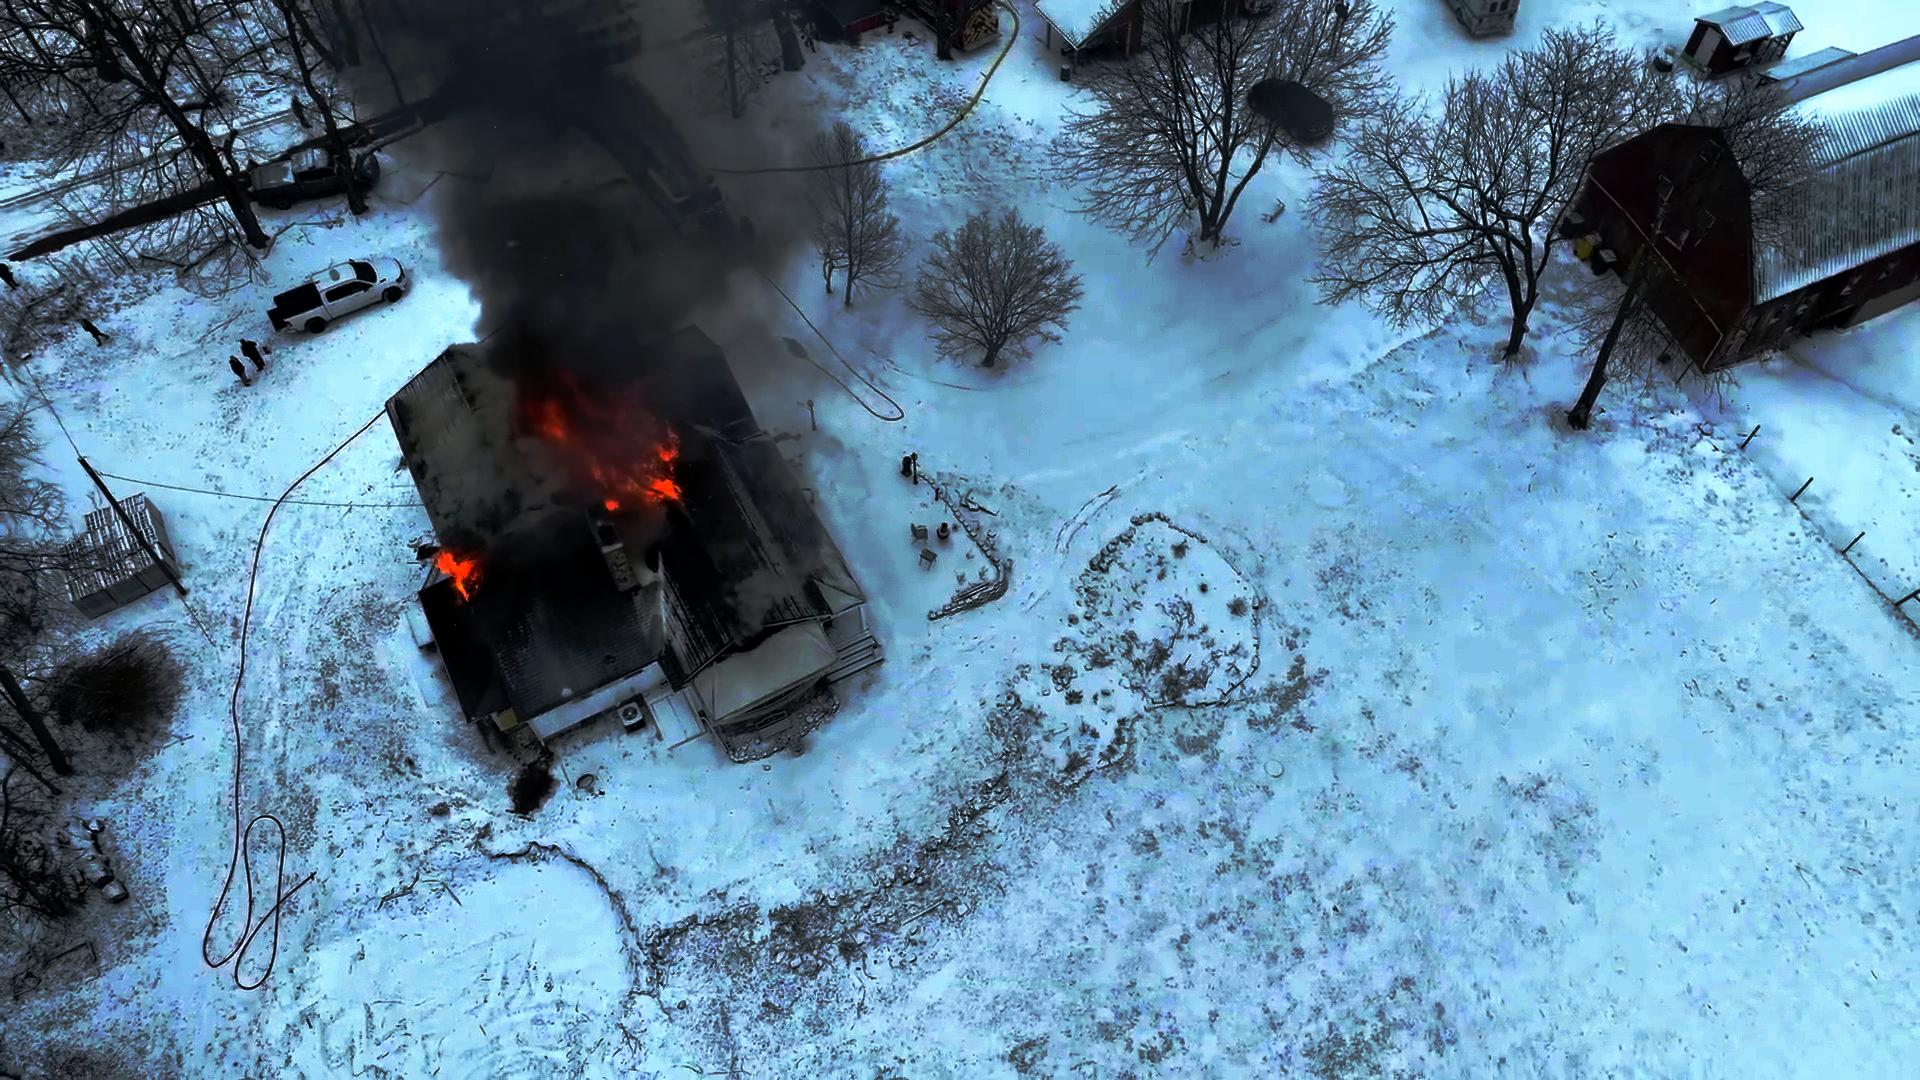fire: (535, 363, 675, 513), (426, 546, 500, 595)
